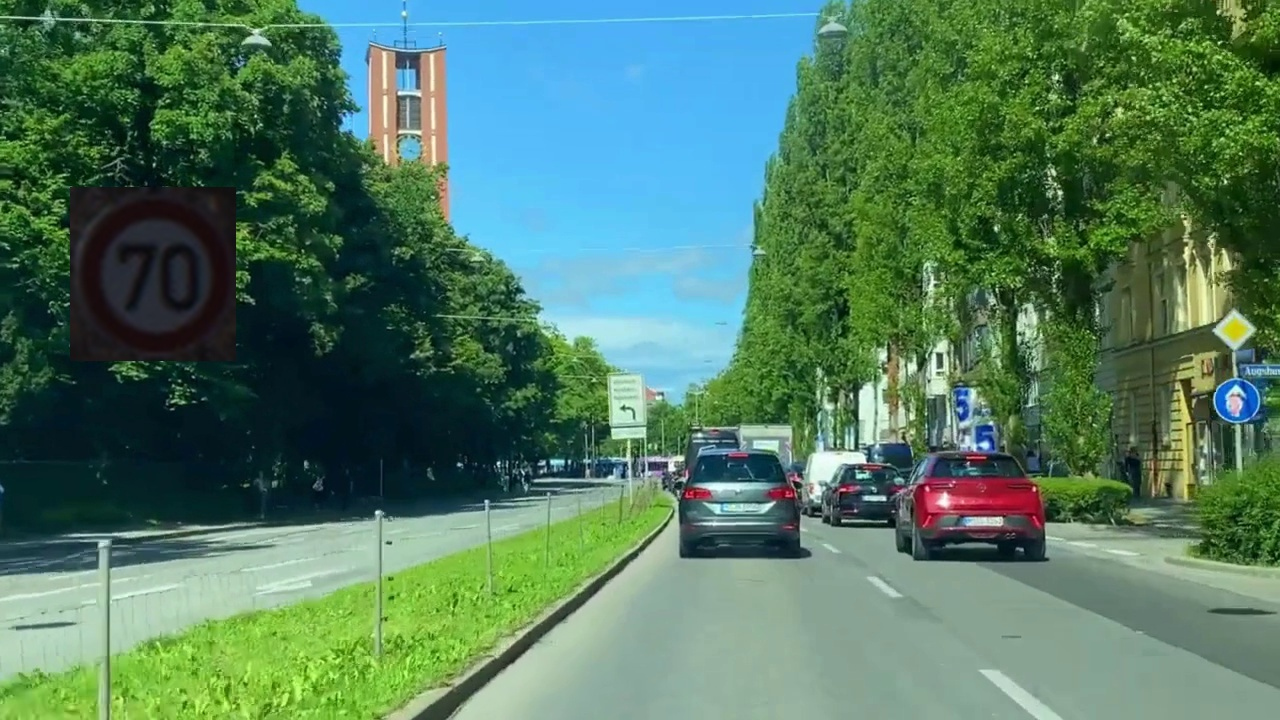Speed 70: (70, 187, 236, 361)
